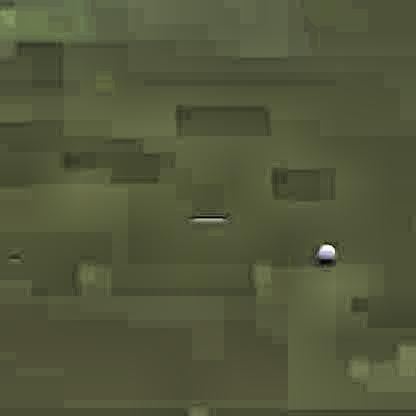golfball: (314, 240, 334, 262)
